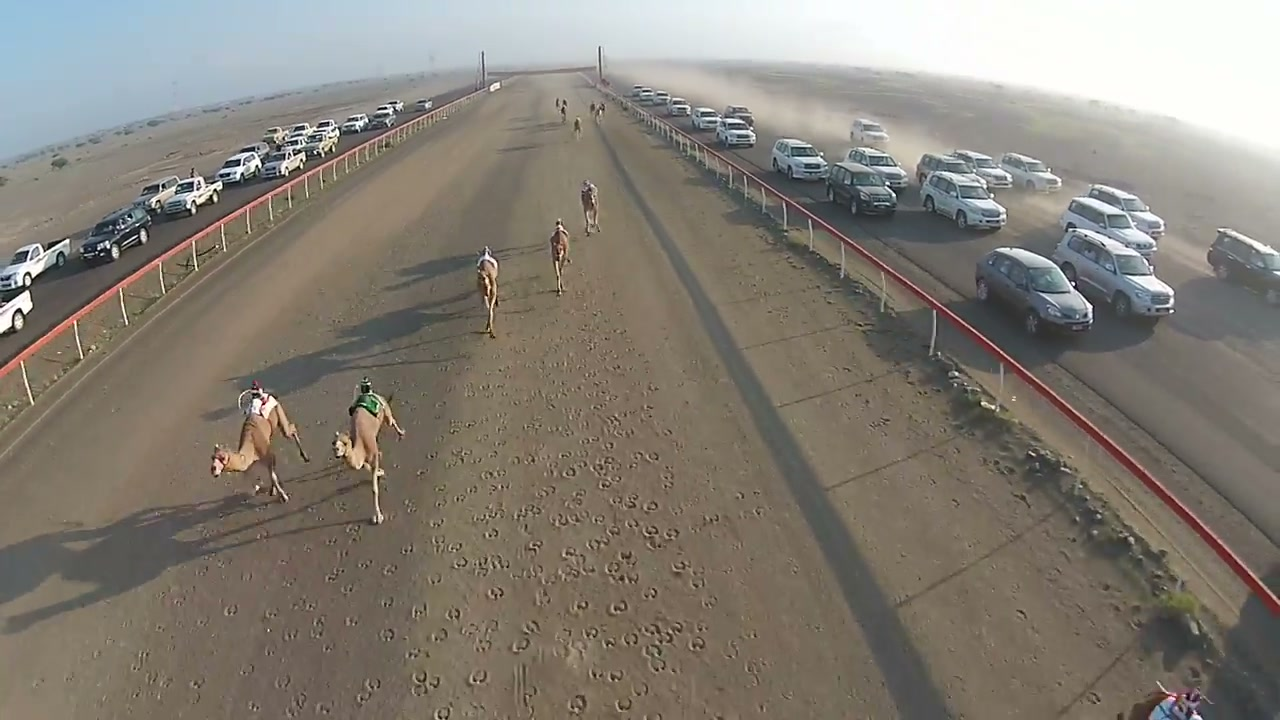animal_foot_print: (153, 289, 711, 718)
